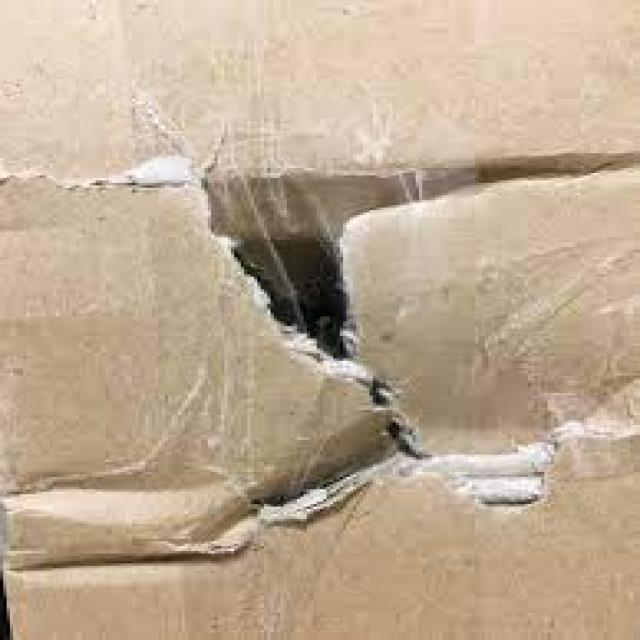damaged: (182, 148, 590, 504)
